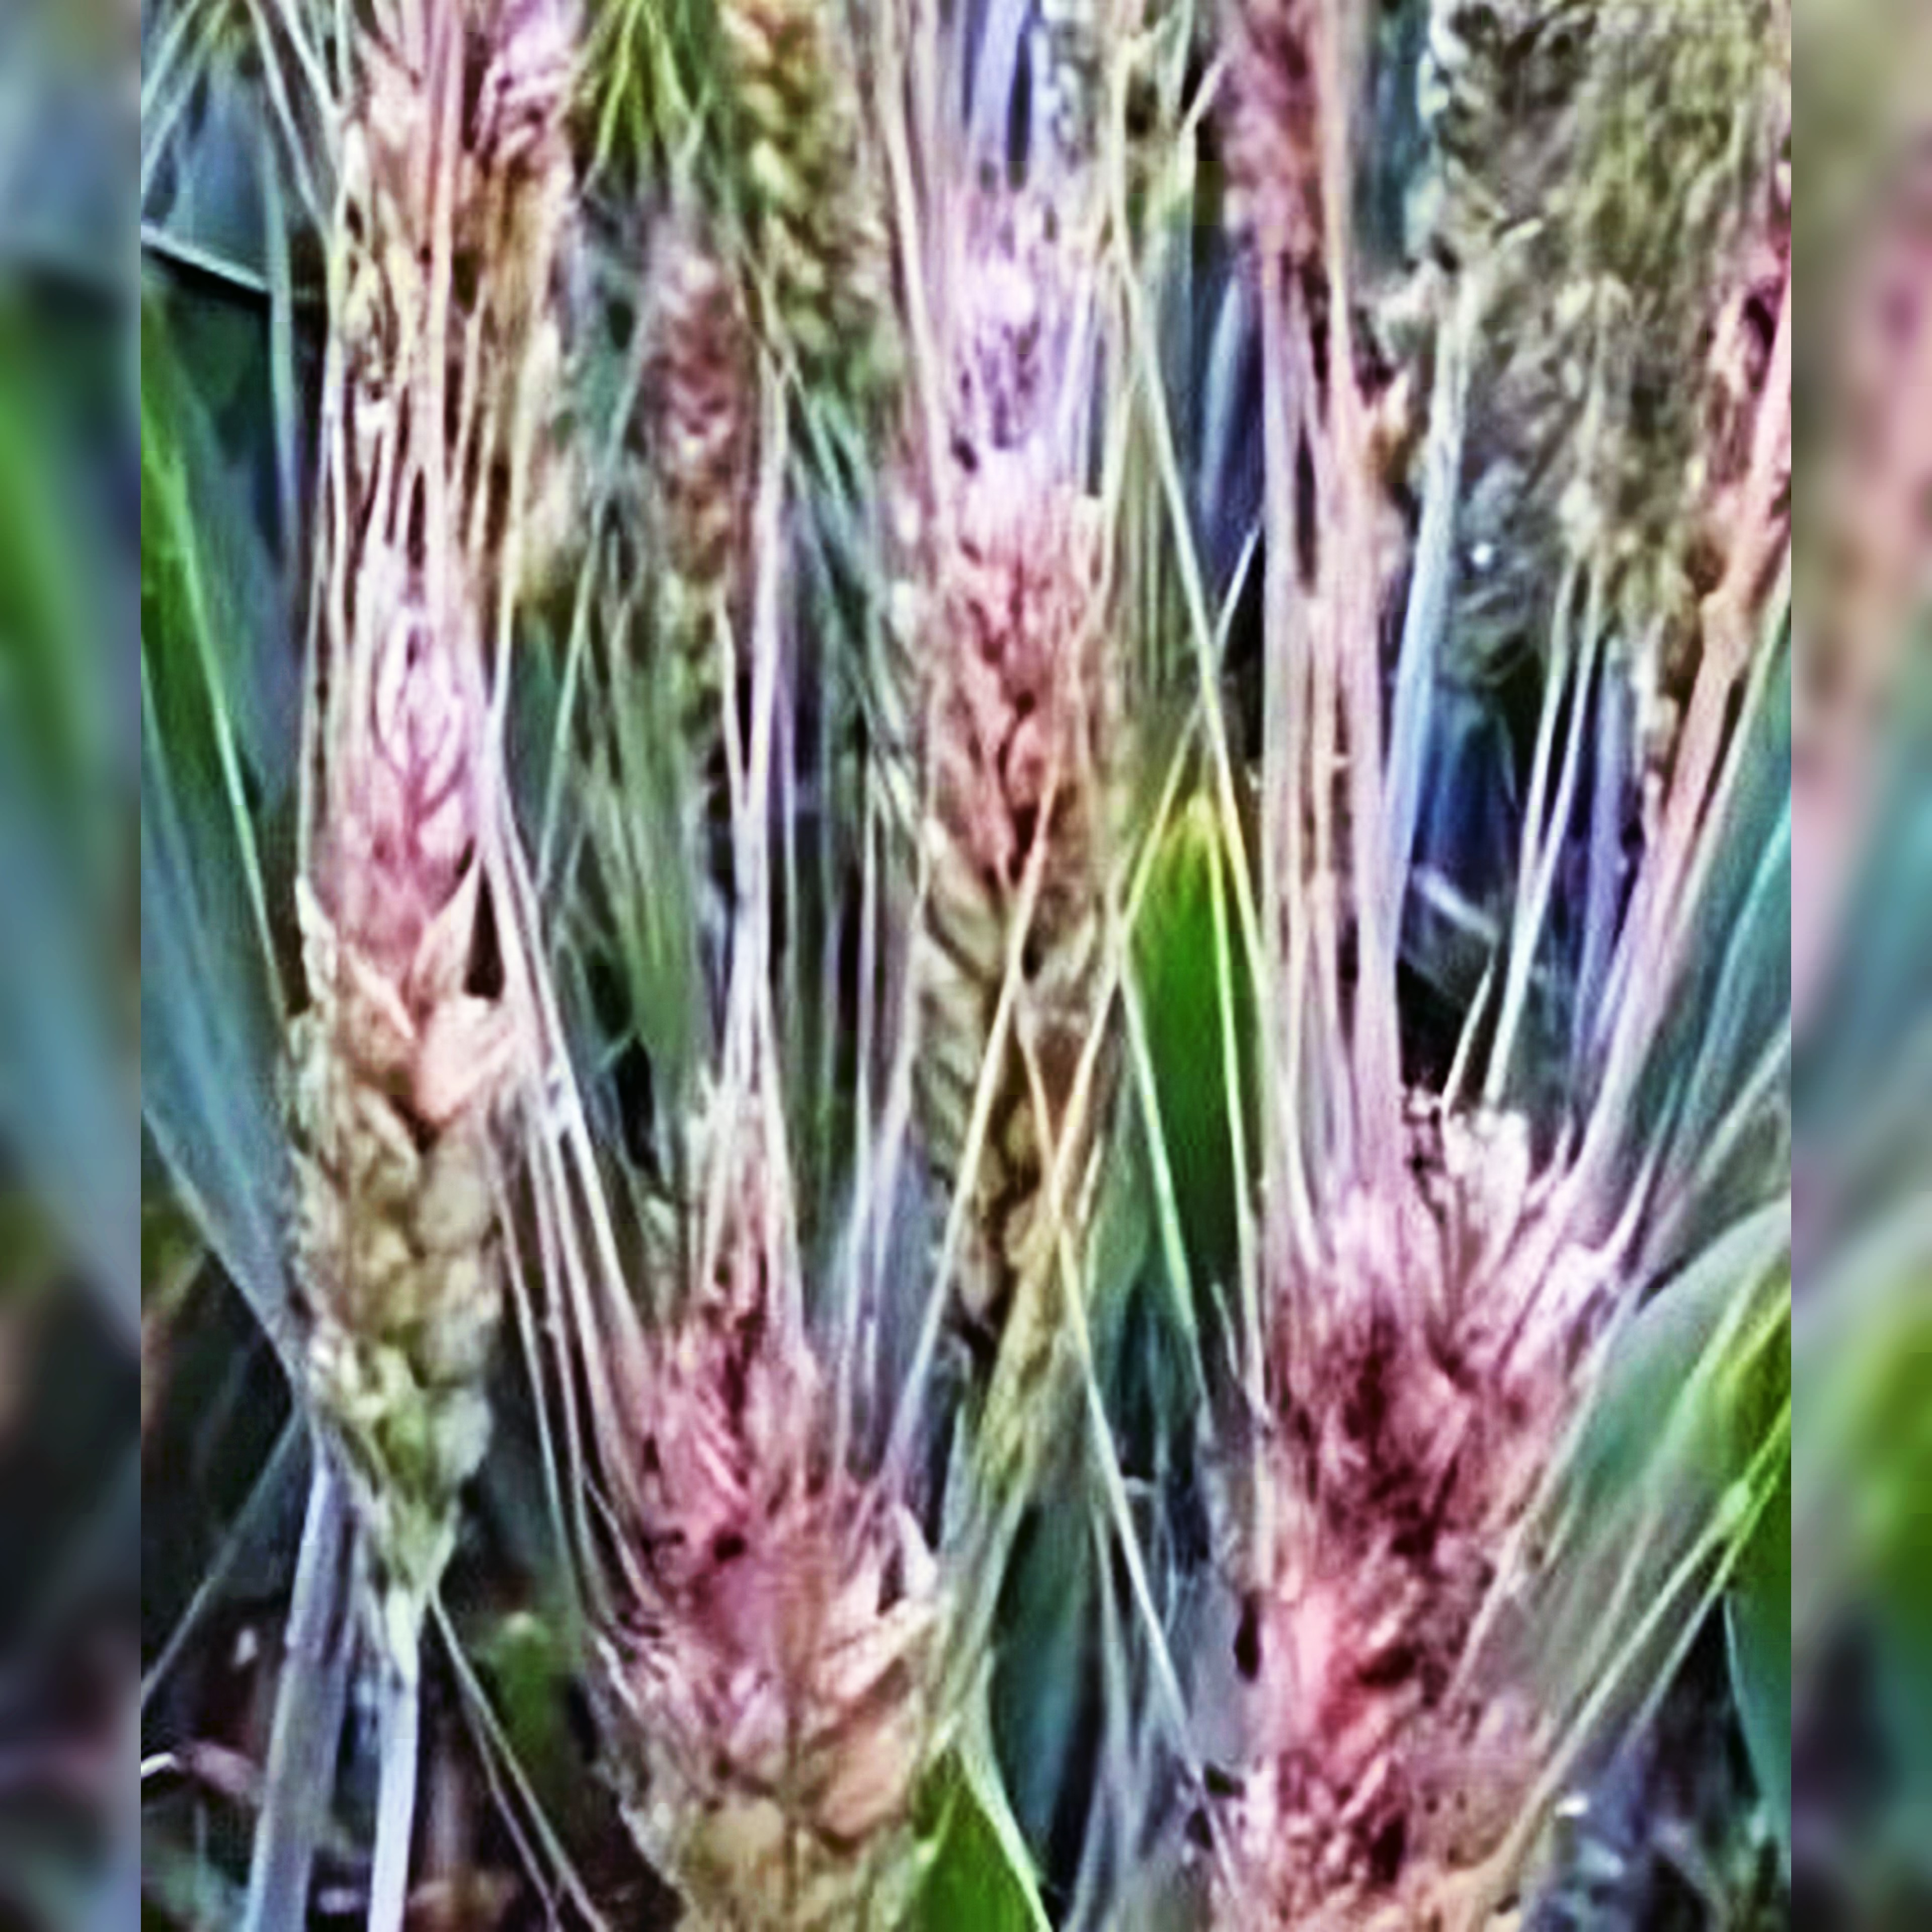Wheat scab: (219, 494, 499, 1575), (895, 444, 1146, 1260)
